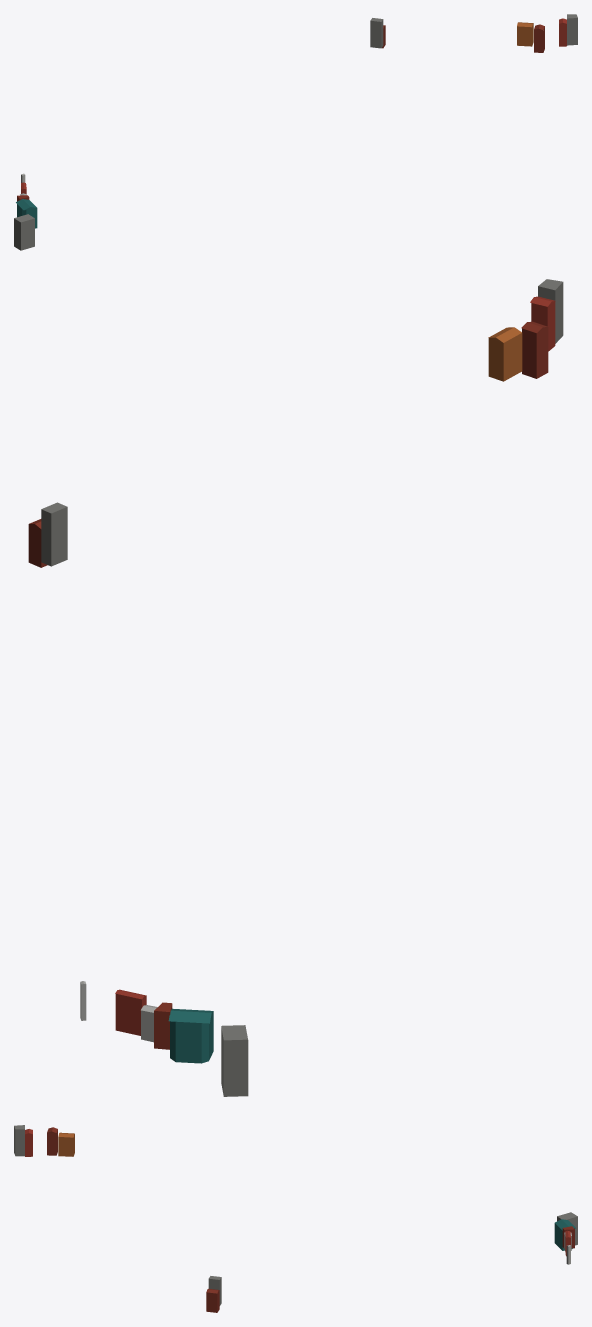
The model's file is near-15-27351-14863.7497be63.glb.
The picture shows the model from 3 angles, top to bottom: view 1: azimuth 90°, elevation 25°; view 2: azimuth 150°, elevation 25°; view 3: azimuth 270°, elevation 25°; orthographic projection. The views are drawn at different scales.
Bounding box in the file's own units: 262 × 152 × 446.
